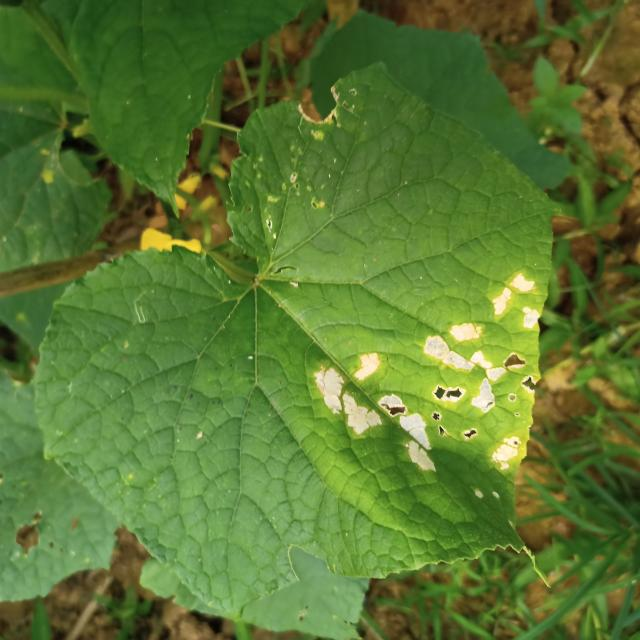disease_cucumber: (302, 268, 550, 516)
